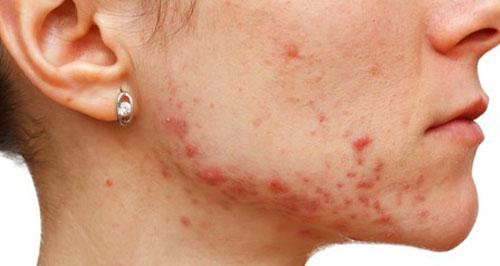Acne: (147, 108, 431, 239), (276, 37, 329, 138), (368, 51, 407, 81)
